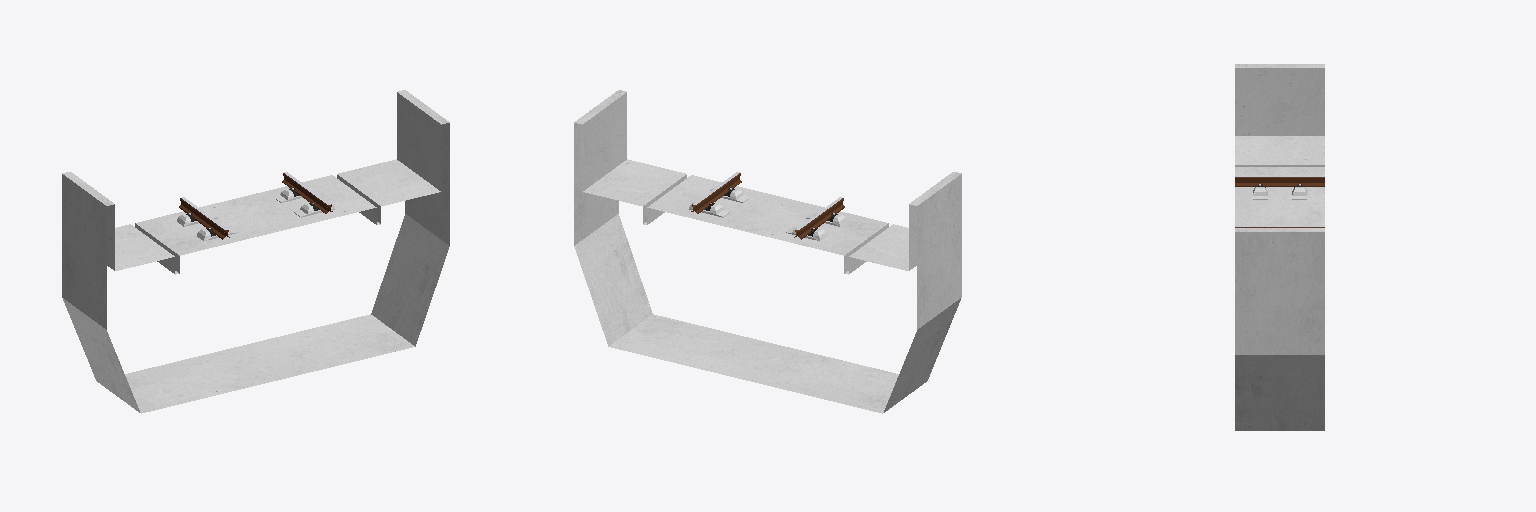
3 renders of one model, left to right at view 1: azimuth 30°, elevation 25°; view 2: azimuth 150°, elevation 25°; view 3: azimuth 270°, elevation 25°, orthographic.
Parts seen in each view (by area): view 1: cuboid; view 2: cuboid; view 3: cuboid.
Boxes of the visible parts, x1=… form: cuboid: x1=62, y1=90, x2=449, y2=413; cuboid: x1=574, y1=90, x2=961, y2=413; cuboid: x1=1235, y1=64, x2=1324, y2=430.
Size of the model in its own units: 5 by 3.01 by 1.12.
5 materials, 4 textured.